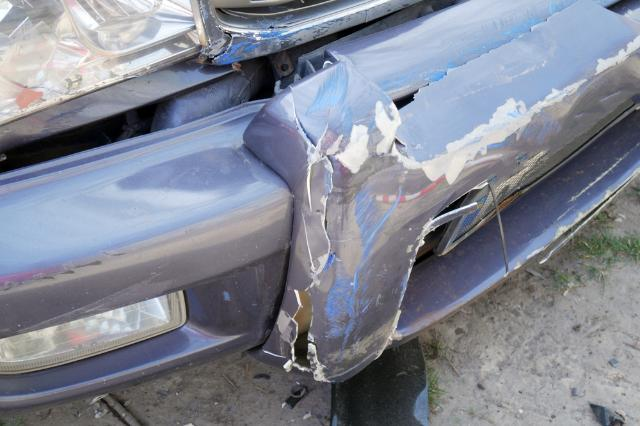crack: (289, 289, 313, 380)
dislocated part: (0, 3, 640, 412)
scratch: (323, 183, 392, 367), (0, 247, 130, 296)
